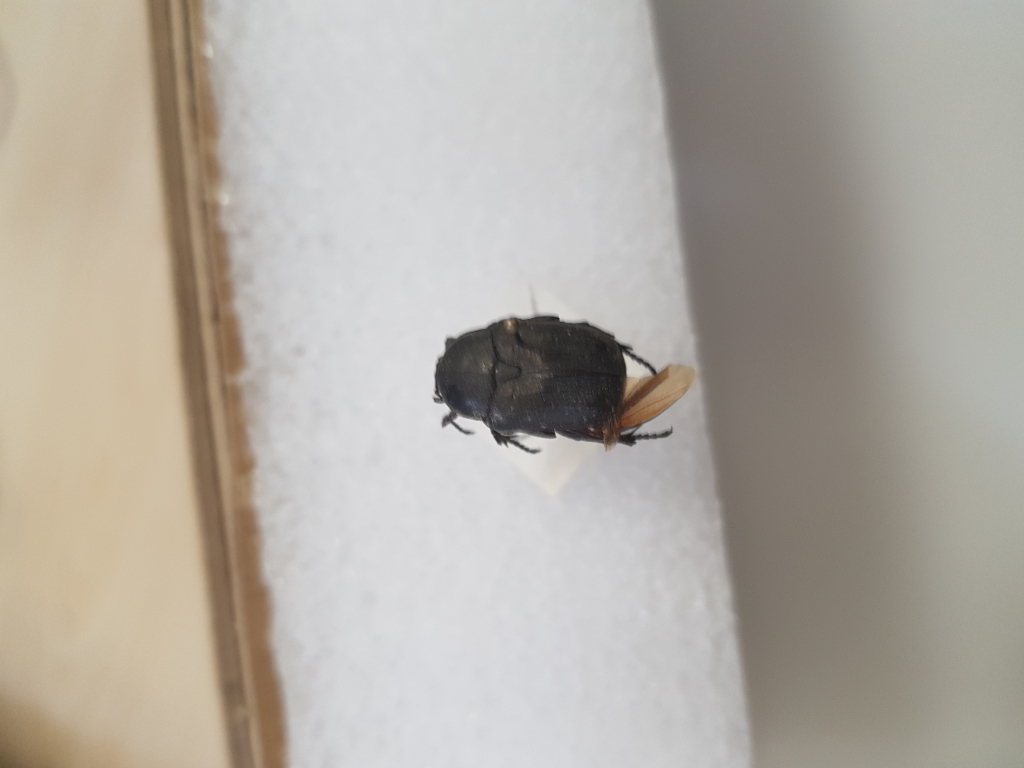Protaetia_asiatica: (426, 311, 700, 465)
